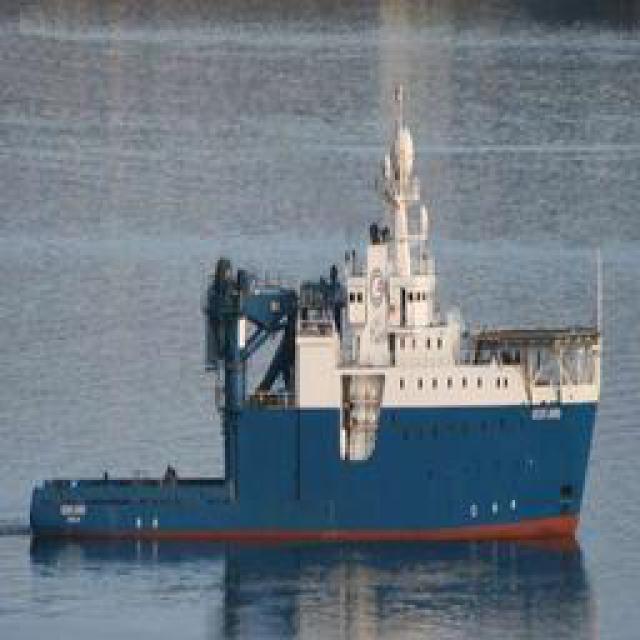Ship: (30, 220, 598, 553)
